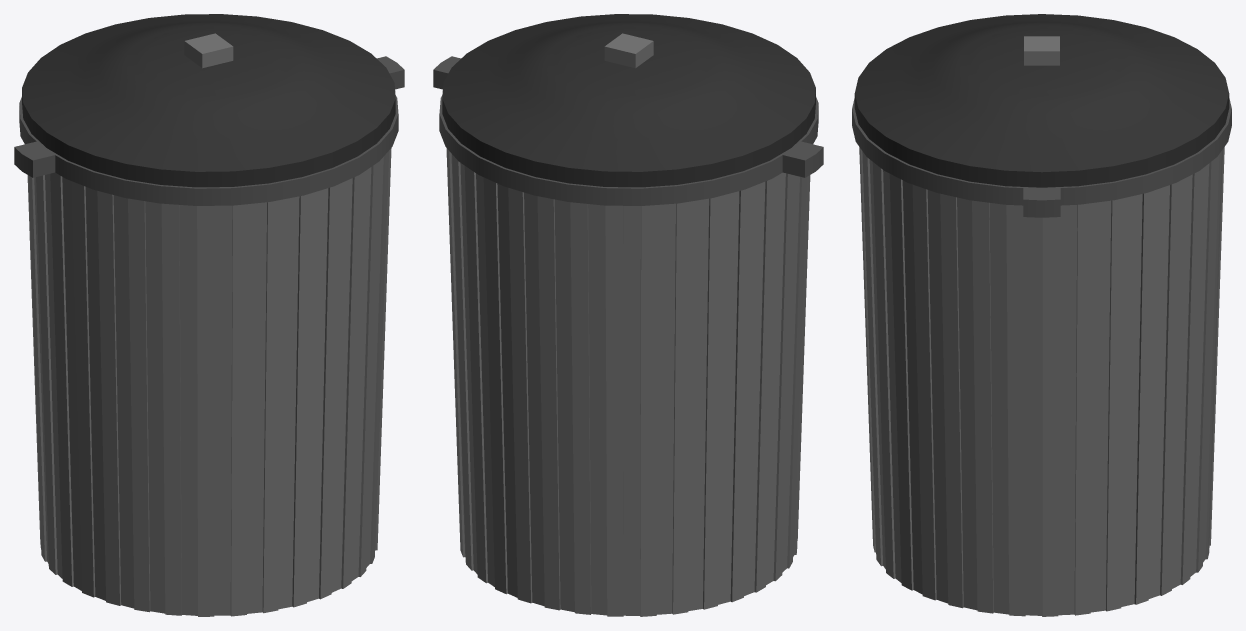
The model's file is TrashCan#1.fbx.
3 views of the same model, side by side, from view 1: azimuth 30°, elevation 25°; view 2: azimuth 150°, elevation 25°; view 3: azimuth 270°, elevation 25° (orthographic).
Visible parts, largest first — view 1: Cylinder; view 2: Cylinder; view 3: Cylinder.
Boxes of the visible parts, x1,y1,x2,y2 form: Cylinder: [14, 14, 404, 616]; Cylinder: [433, 14, 823, 616]; Cylinder: [852, 14, 1231, 616].
Size of the model in its own units: 260 by 332 by 228.
Materials: 1 (1 with a texture image).
